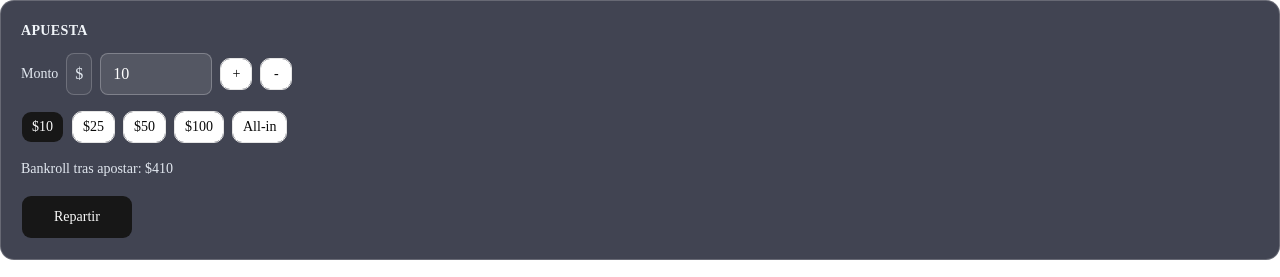
it: BetSelector › applies all-in preset to bankroll
Click the button "All-in": [260, 127] box [232,111,288,143]
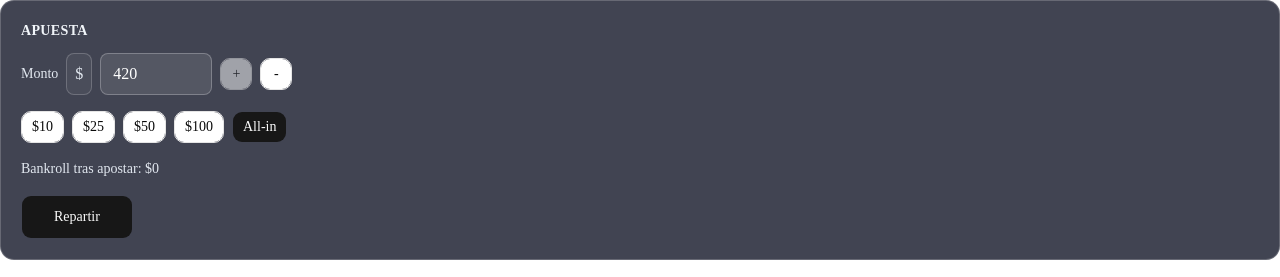
Expected: the field holds "420", [100,53,212,95]
